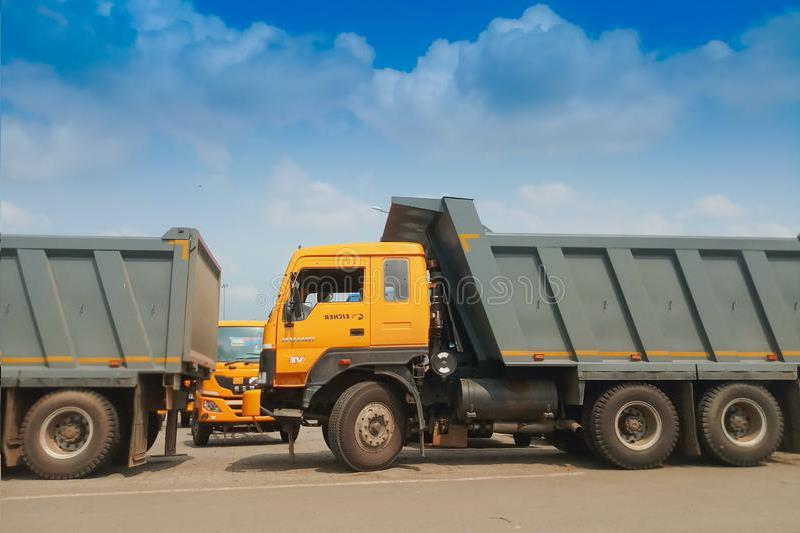truck: (244, 197, 797, 488), (8, 224, 222, 469), (173, 310, 306, 464)
